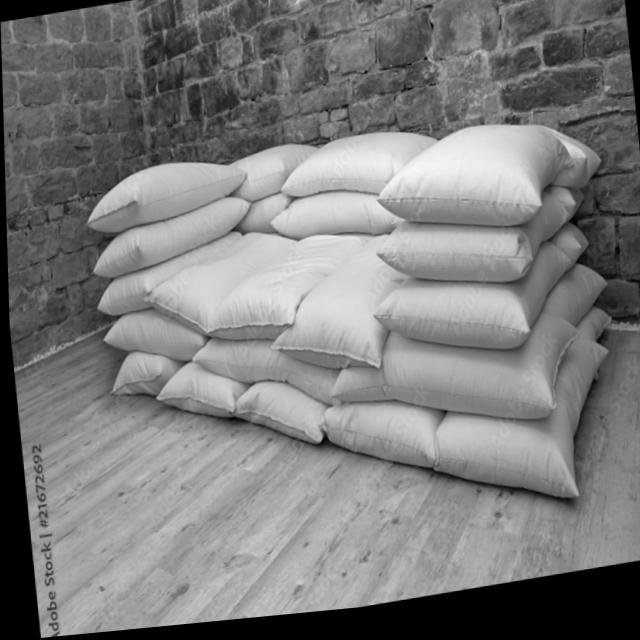sack: (324, 316, 583, 458), (421, 345, 618, 531), (368, 120, 576, 256), (366, 249, 575, 378), (260, 239, 406, 389), (197, 234, 378, 354), (372, 205, 571, 311), (134, 228, 303, 345), (187, 324, 337, 430), (274, 129, 442, 216), (87, 199, 252, 283), (80, 155, 248, 237), (90, 234, 244, 318), (313, 394, 445, 491), (266, 187, 398, 257), (227, 378, 328, 460), (98, 304, 204, 376), (151, 356, 247, 431), (224, 146, 320, 208), (104, 346, 181, 405), (233, 198, 291, 243)
